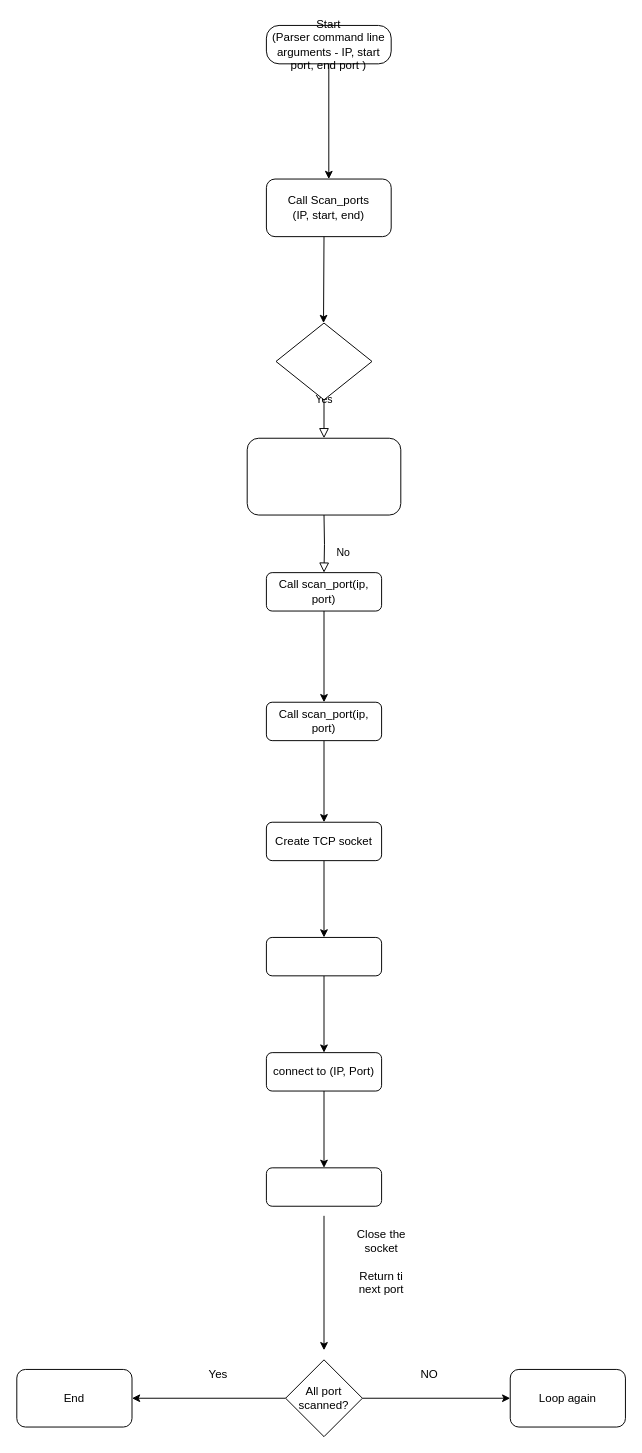
The diagram is 642 pixels wide and 1453 high, and some of its shapes have lost their labels. The centre of each missing label's shape, as x and y in pixels:
For each port in range: port = start to end: (323,476)
If connect_ex returns 0: Print "Port X is open.": (323,1186)
Lamp plugged in?: (323,361)
Set socket timeout = 1s: (323,956)
